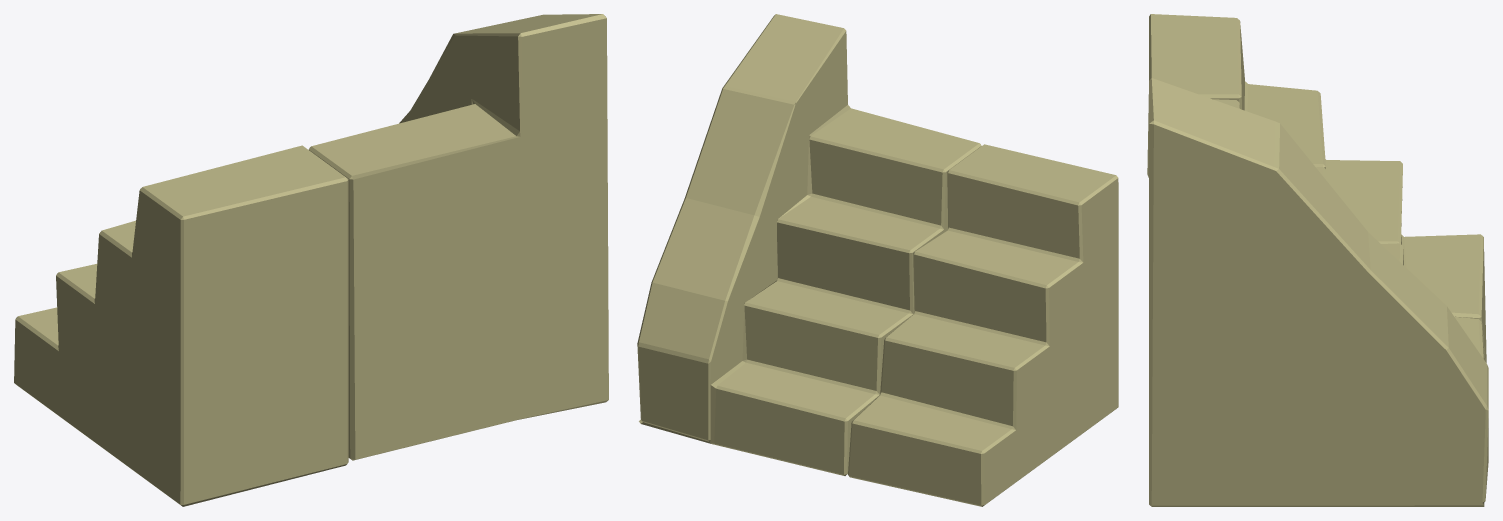
The picture shows the model from 3 angles, left to right: view 1: azimuth 30°, elevation 25°; view 2: azimuth 150°, elevation 25°; view 3: azimuth 270°, elevation 25°; orthographic projection. The views are drawn at different scales.
Visible parts, largest first — view 1: Cube.037; view 2: Cube.037; view 3: Cube.037.
Part boxes in pixels (x1=…): Cube.037: x1=14, y1=14, x2=608, y2=506; Cube.037: x1=637, y1=14, x2=1118, y2=506; Cube.037: x1=1147, y1=14, x2=1488, y2=506.
Bounding box in the file's own units: 205 × 178 × 140.
